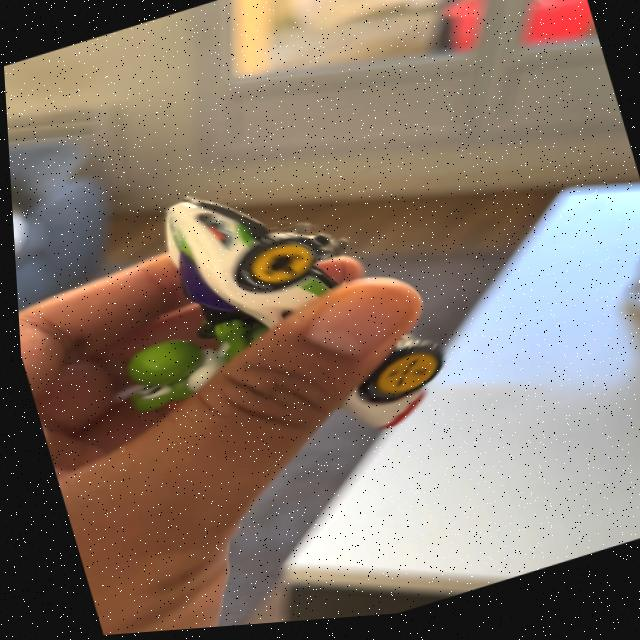yoshi: (55, 134, 471, 521)
